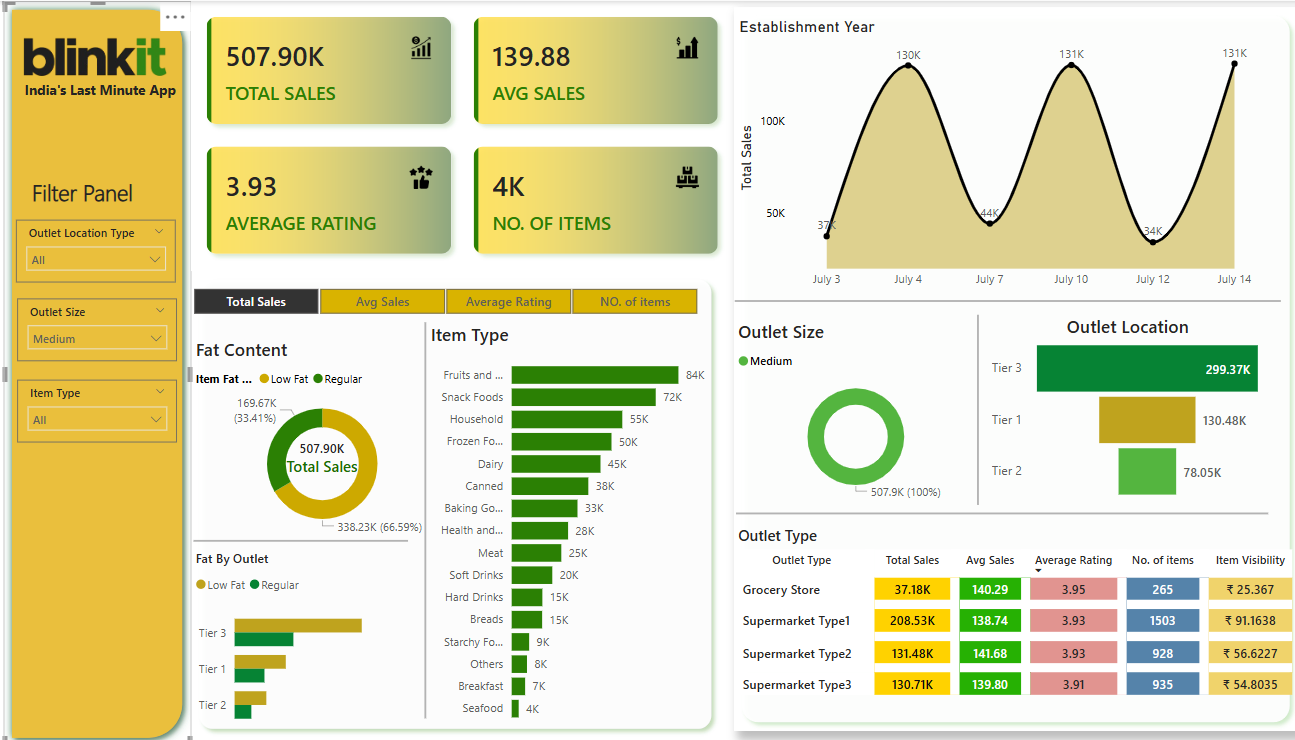

What the dashboard file says about the page in this screenshot:
{"tool":"powerbi","page":{"name":"Page 1","canvas":[1400,800],"ordinal":0},"visuals":[{"type":"shape","box":[8,0,201.1,800.3],"z":0},{"type":"image","box":[13.4,0,186.3,116.6],"z":1000},{"type":"textbox","box":[25.5,80.4,199.7,36.2],"z":2000},{"type":"cardVisual","fields":{"Data":["BlinkIT Grocery Data.Total Sales","BlinkIT Grocery Data.Avg Sales","BlinkIT Grocery Data.Average Rating","BlinkIT Grocery Data.NO. of items"]},"box":[209.1,0,583.1,289.5],"z":3000},{"type":"shape","box":[209.1,289.5,567,500],"z":4000},{"type":"donutChart","title":" Fat Content","fields":{"Y":["BlinkIT Grocery Data.Total Sales"],"Category":["BlinkIT Grocery Data.Item Fat Content"]},"box":[209.1,360.6,281.5,218.5],"z":5000},{"type":"slicer","fields":{"Values":["Metric.Metric"]},"box":[186.3,301.6,589.8,40.2],"z":6000},{"type":"cardVisual","fields":{"Data":["BlinkIT Grocery Data.Total Sales"]},"box":[293.6,439.7,112.6,100.5],"z":7000},{"type":"clusteredBarChart","title":"Fat By Outlet","fields":{"Y":["BlinkIT Grocery Data.Total Sales"],"Category":["BlinkIT Grocery Data.Outlet Location Type"],"Series":["BlinkIT Grocery Data.Item Fat Content"]},"box":[209.1,588.5,252,203.8],"z":8000},{"type":"shape","box":[211.8,569.7,234.6,18.8],"z":9000},{"type":"barChart","title":"Item Type","fields":{"Y":["BlinkIT Grocery Data.Total Sales"],"Category":["BlinkIT Grocery Data.Item Type"]},"box":[461.1,344.5,317.7,438.3],"z":10000},{"type":"shape","box":[790.9,6.7,605.9,776.1],"z":11000},{"type":"lineChart","title":"Establishment Year","fields":{"Y":["BlinkIT Grocery Data.Total Sales"],"Category":["BlinkIT Grocery Data.Outlet Establishment Year.Variation.Date Hierarchy.Month","BlinkIT Grocery Data.Outlet Establishment Year.Variation.Date Hierarchy.Day"]},"box":[792.2,17.4,576.4,298.9],"z":12000},{"type":"shape","box":[792.2,319,585.8,5.4],"z":13000},{"type":"donutChart","title":"Outlet Size","fields":{"Category":["BlinkIT Grocery Data.Outlet Size"],"Y":["BlinkIT Grocery Data.Total Sales"]},"box":[790.9,341.8,262.7,198.4],"z":14000},{"type":"shape","box":[422.3,339.1,76.4,443.7],"z":15000},{"type":"shape","box":[945,336.5,215.8,203.8],"z":16000},{"type":"shape","box":[352.5,344.5,215.8,424.9],"z":17000},{"type":"shape","box":[793.6,537.5,573.7,24.1],"z":18000},{"type":"funnel","title":"Outlet Location ","fields":{"Y":["BlinkIT Grocery Data.Total Sales"],"Category":["BlinkIT Grocery Data.Outlet Location Type"]},"box":[1063,336.5,301.6,203.8],"z":19000},{"type":"pivotTable","title":"Outlet Type","fields":{"Values":["BlinkIT Grocery Data.Total Sales","BlinkIT Grocery Data.Avg Sales","BlinkIT Grocery Data.Average Rating","BlinkIT Grocery Data.No.  of items","Sum(BlinkIT Grocery Data.Item Visibility)"],"Rows":["BlinkIT Grocery Data.Outlet Type"]},"box":[790.9,561.7,608.6,227.9],"z":20000},{"type":"slicer","fields":{"Values":["BlinkIT Grocery Data.Outlet Location Type"]},"box":[21.4,234.6,171.6,67],"z":21000},{"type":"slicer","fields":{"Values":["BlinkIT Grocery Data.Outlet Size"]},"box":[22.8,319,171.6,67],"z":22000},{"type":"slicer","fields":{"Values":["BlinkIT Grocery Data.Item Type"]},"box":[22.8,406.2,171.6,67],"z":23000},{"type":"textbox","box":[33.5,183.6,186.3,67],"z":24000}]}

Visuals, with their boxes on the page's 1400x800 design canvas (x1, y1, x2, y2). These are canvas units, not pixel positions in the 1295x740 screenshot, which may show the page scaled, cropped or inside an application window:
shape: 8, 0, 209, 800
image: 13, 0, 200, 117
textbox: 26, 80, 225, 117
cardVisual - BlinkIT Grocery Data.Total Sales x BlinkIT Grocery Data.Avg Sales: 209, 0, 792, 290
shape: 209, 290, 776, 790
" Fat Content" donutChart: 209, 361, 491, 579
slicer - Metric.Metric: 186, 302, 776, 342
cardVisual - BlinkIT Grocery Data.Total Sales: 294, 440, 406, 540
"Fat By Outlet" clusteredBarChart: 209, 588, 461, 792
shape: 212, 570, 446, 588
"Item Type" barChart: 461, 344, 779, 783
shape: 791, 7, 1397, 783
"Establishment Year" lineChart: 792, 17, 1369, 316
shape: 792, 319, 1378, 324
"Outlet Size" donutChart: 791, 342, 1054, 540
shape: 422, 339, 499, 783
shape: 945, 336, 1161, 540
shape: 352, 344, 568, 769
shape: 794, 538, 1367, 562
"Outlet Location " funnel: 1063, 336, 1365, 540
"Outlet Type" pivotTable: 791, 562, 1400, 790
slicer - BlinkIT Grocery Data.Outlet Location Type: 21, 235, 193, 302
slicer - BlinkIT Grocery Data.Outlet Size: 23, 319, 194, 386
slicer - BlinkIT Grocery Data.Item Type: 23, 406, 194, 473
textbox: 34, 184, 220, 251
